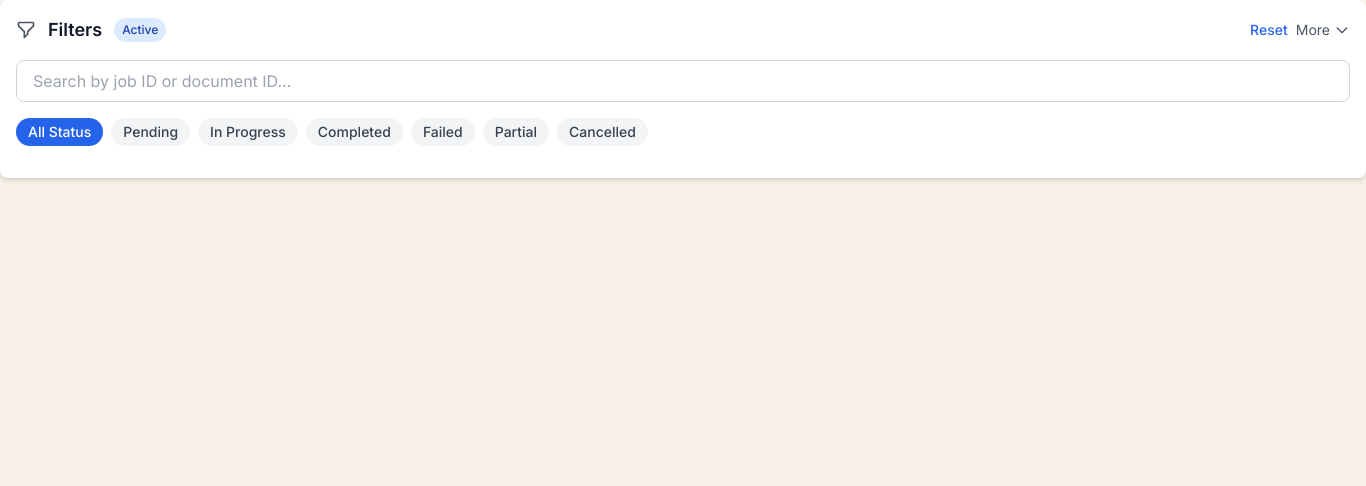
it: AdvancedJobFilters › Channel Filter (Expanded) › should highlight selected channels
The width and height of the screenshot is (1366, 486).
Click the button "More": (1323, 30) [1296,20,1350,40]
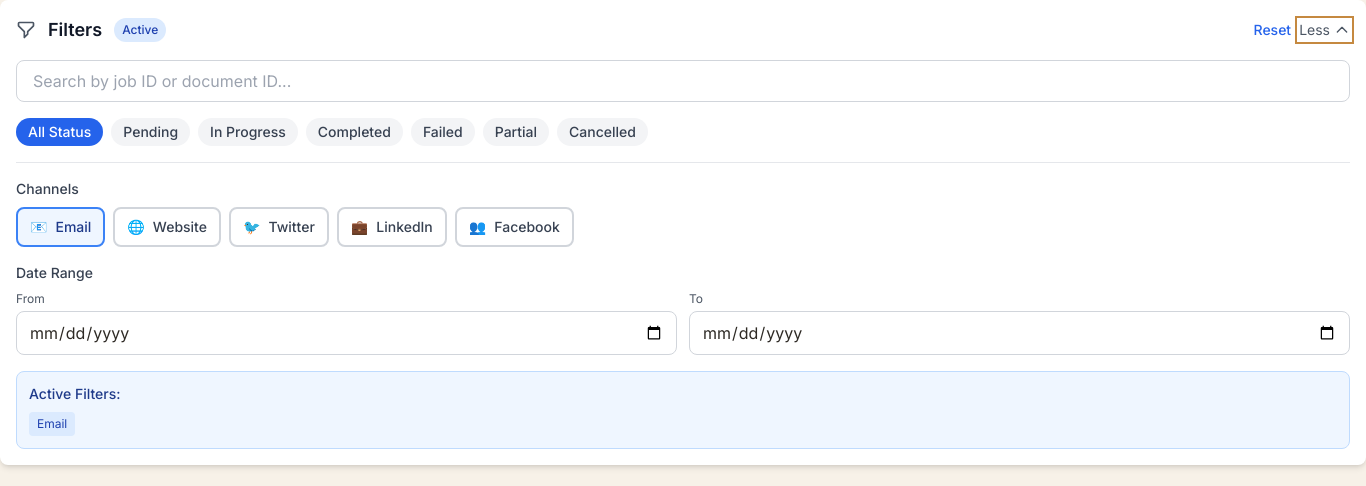
Now the text "Channels" is shown, box [16,180,79,197]
